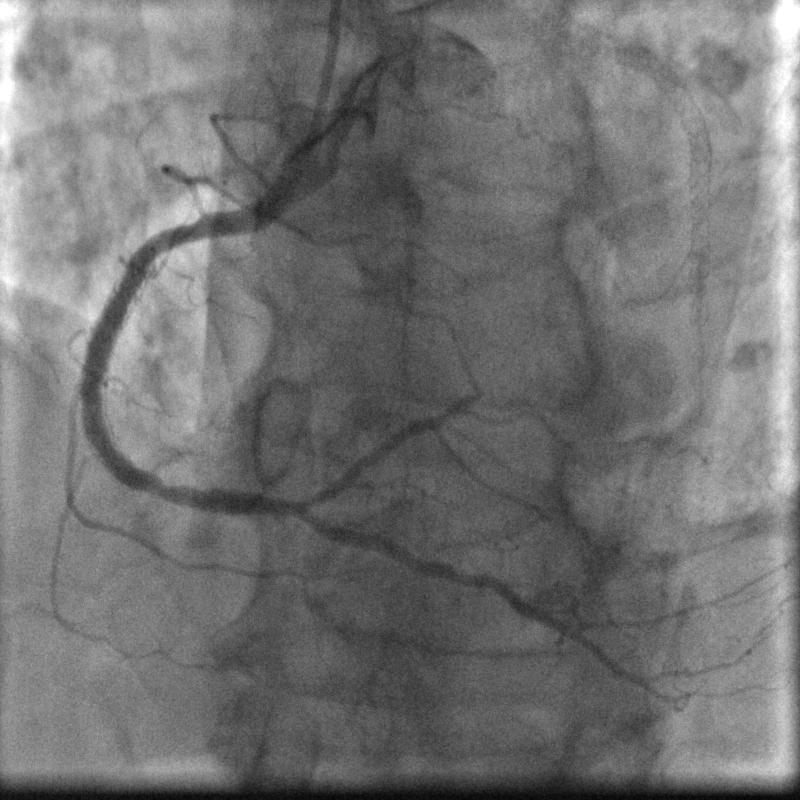Stenosis: (149, 216, 205, 251)
